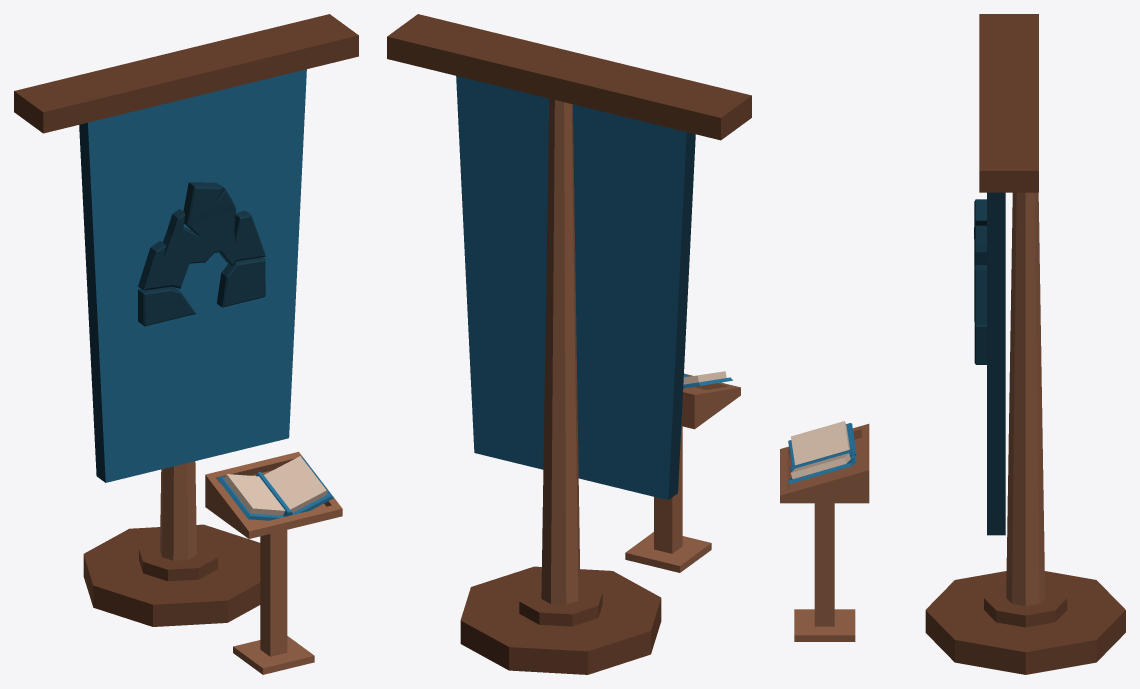
File: EstandardeAzul.fbx
3 views of the same model, side by side, from view 1: azimuth 30°, elevation 25°; view 2: azimuth 150°, elevation 25°; view 3: azimuth 270°, elevation 25° (orthographic). The views are drawn at different scales.
Parts seen in each view (by area): view 1: EstandardeAzul; view 2: EstandardeAzul; view 3: EstandardeAzul.
Part boxes in pixels (x1,y1,x2,y2): EstandardeAzul: [14, 14, 358, 674]; EstandardeAzul: [387, 14, 751, 674]; EstandardeAzul: [780, 14, 1125, 674].
Size of the model in its own units: 223 by 357 by 207.
